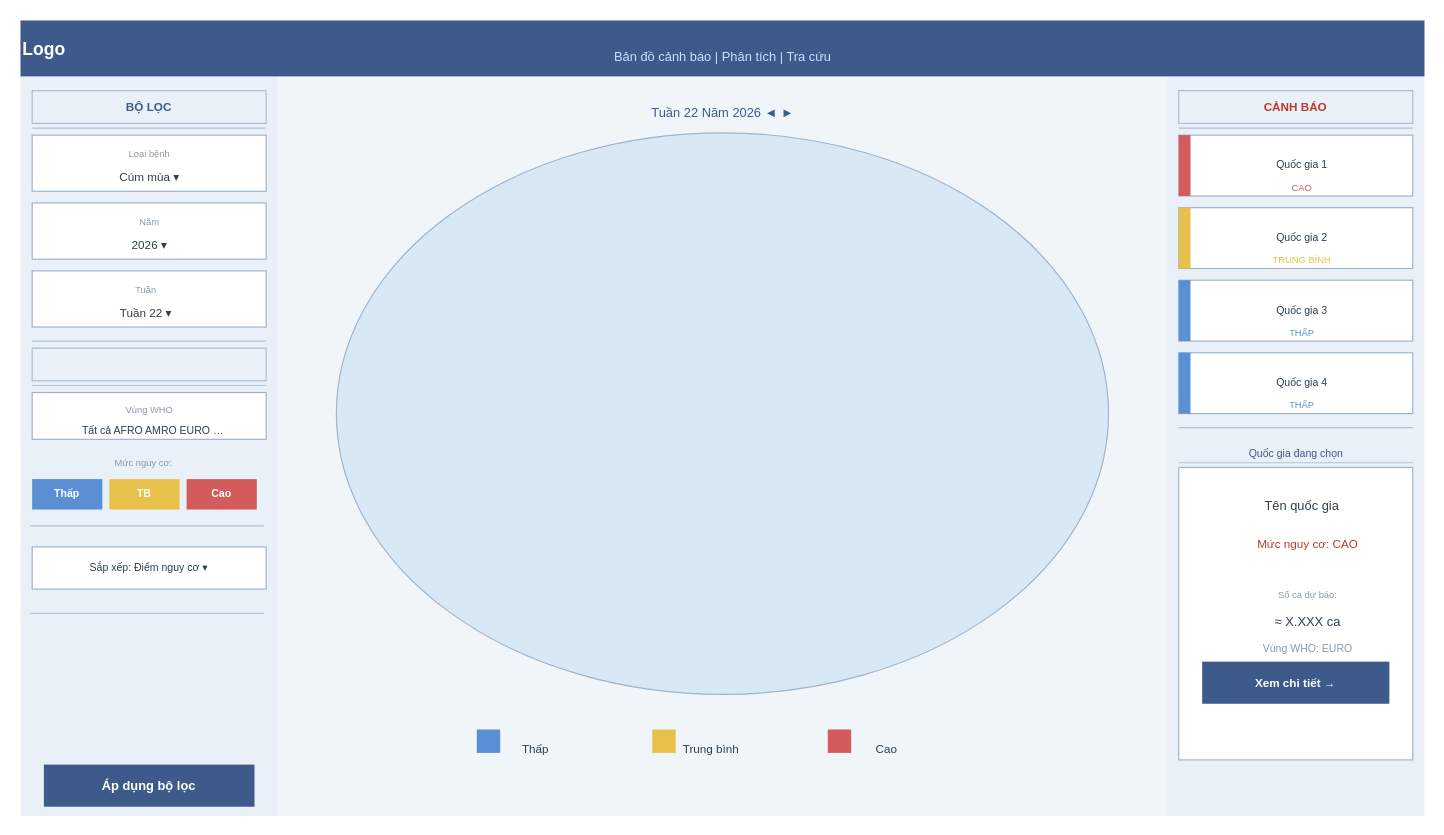
This 1444x835 diagram has some shape labels left out. Each missing label, with the centre of its shape:
"Bản đồ choropleth thế giới (Tô màu theo mức nguy cơ)" belongs at (722,413).
"LỌC KẾT QUẢ" belongs at (148,364).
